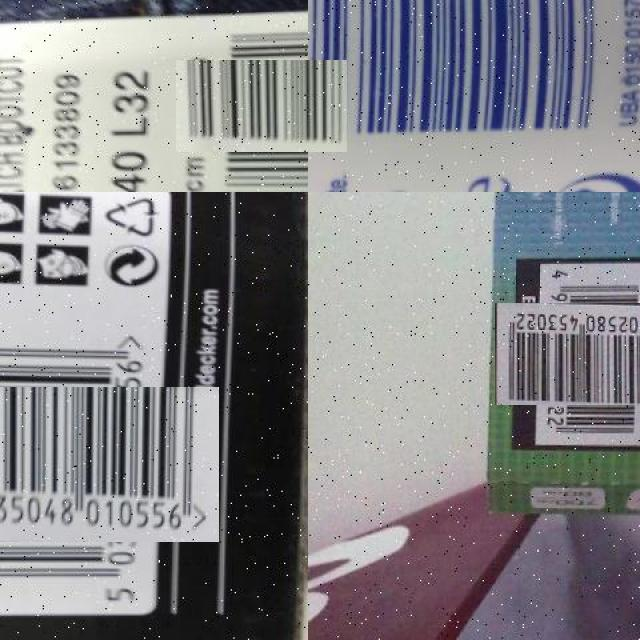Barcode: (308, 0, 623, 147), (0, 354, 188, 573), (516, 281, 640, 426), (196, 40, 328, 172)
